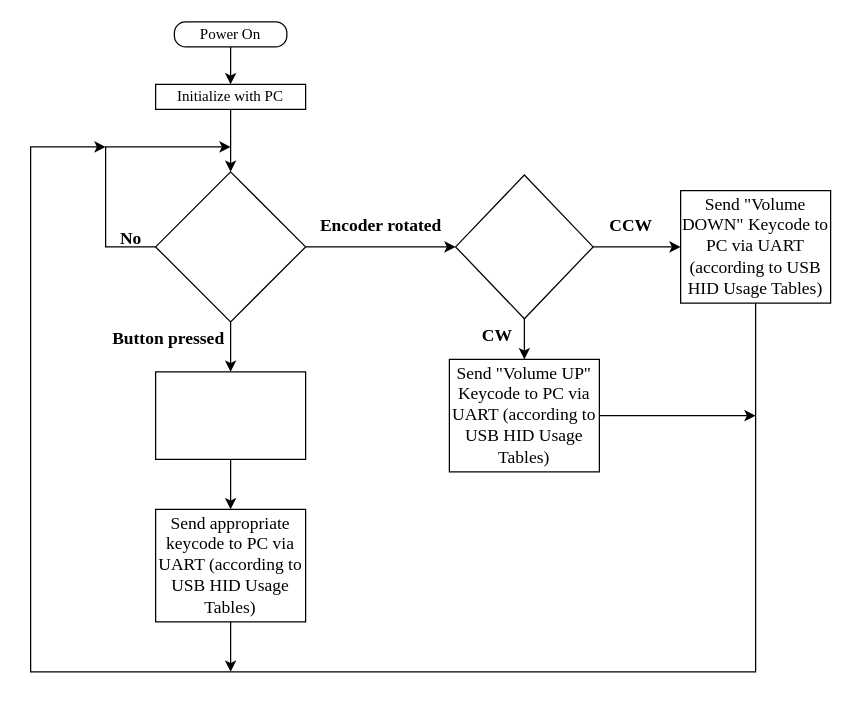
Some shapes in this 853 by 704 pixel diagram are drawn without their labels. Here are the shapes that lost their labels. From the top down, the box of each, then its label:
(154, 171, 306, 322): Button pressed/Encoder rotated?
(454, 174, 593, 319): Rotated CW or CCW?
(154, 371, 306, 459): Determine button pressed from matrixed configuration
